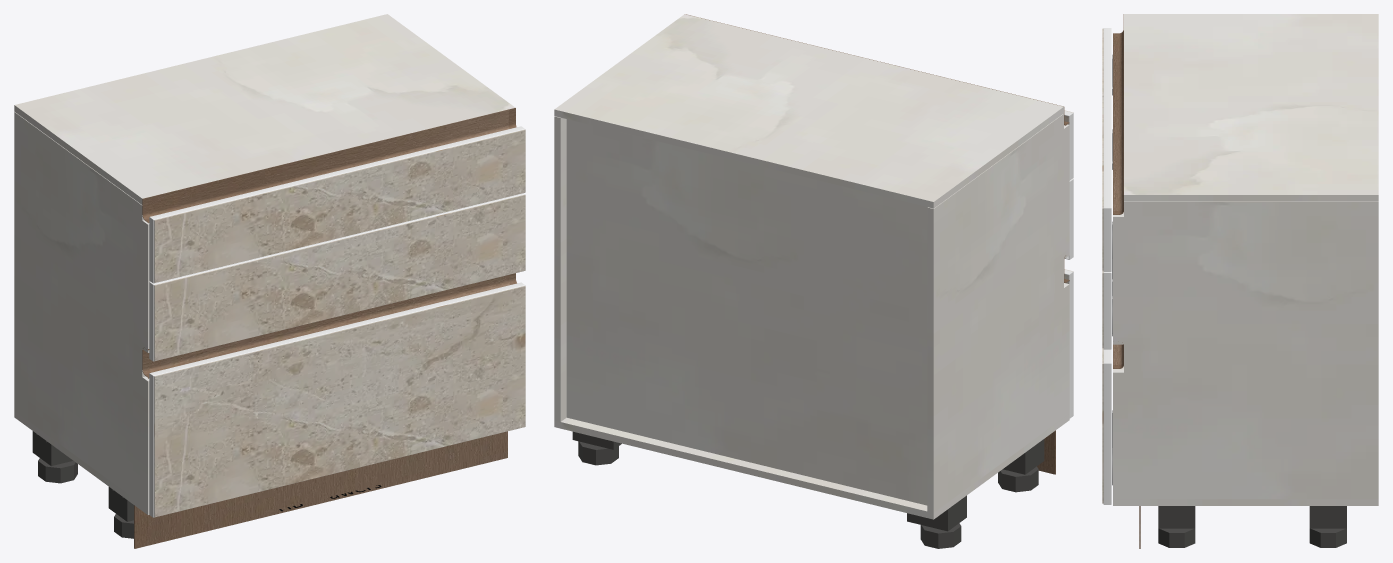
The picture shows the model from 3 angles, left to right: view 1: azimuth 30°, elevation 25°; view 2: azimuth 150°, elevation 25°; view 3: azimuth 270°, elevation 25°; orthographic projection. The views are drawn at different scales.
Size of what is drawn, in the model's own units: 0.9 by 0.82 by 0.5809.
7 materials, 3 textured.
